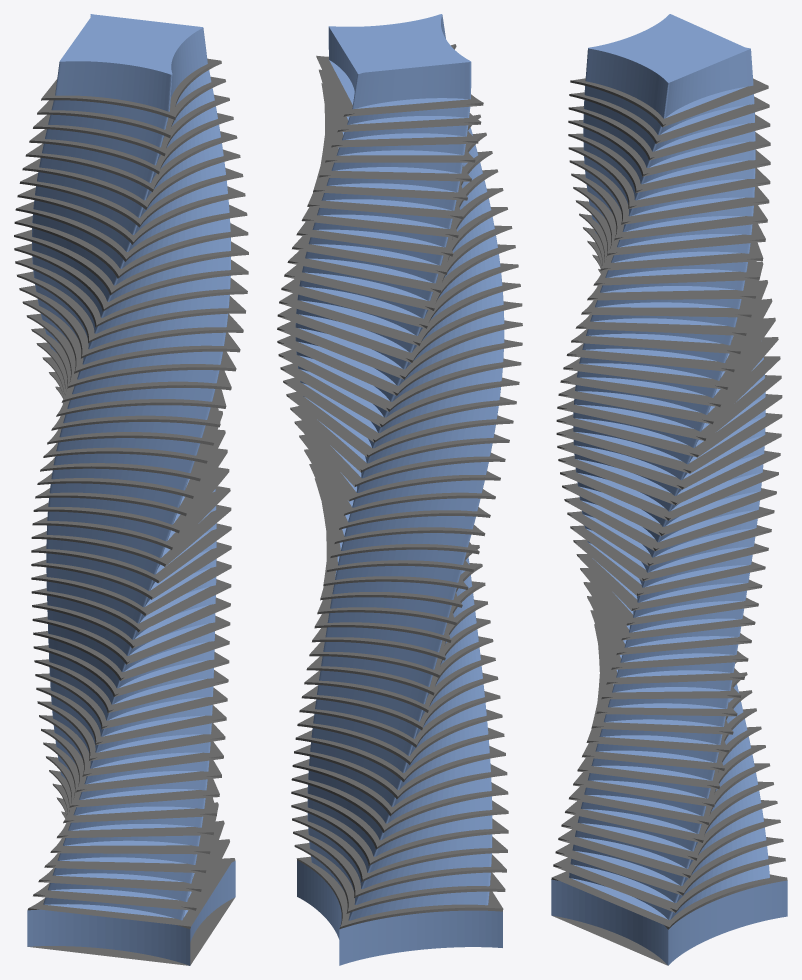
The model's file is KierrePilvenpiirtäjä-RendererVersio.fbx.
3 views of the same model, side by side, from view 1: azimuth 30°, elevation 25°; view 2: azimuth 150°, elevation 25°; view 3: azimuth 270°, elevation 25° (orthographic).
Visible parts, largest first — view 1: NurbsCircle.001; view 2: NurbsCircle.001; view 3: NurbsCircle.001.
Part boxes in pixels (<box>): NurbsCircle.001: <box>14,14,248,965</box>; NurbsCircle.001: <box>277,14,522,965</box>; NurbsCircle.001: <box>551,14,787,965</box>.
Bounding box in the file's own units: 328 × 1331 × 328.
